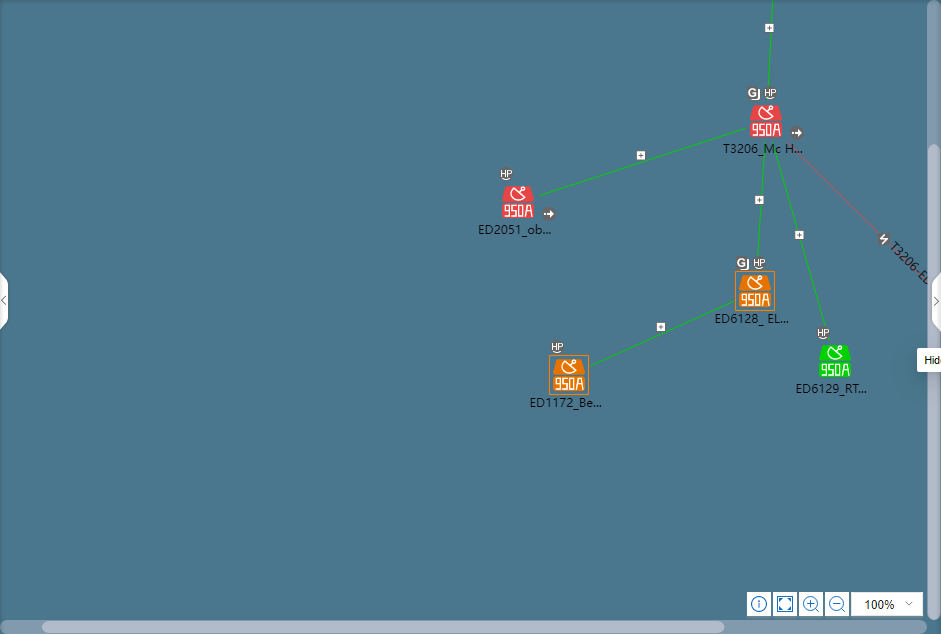Link_Green: (538, 126, 748, 201), (768, 144, 829, 338), (591, 296, 737, 364), (756, 144, 772, 243), (768, 2, 778, 38)
Link_Red: (785, 138, 931, 283)
RTN_Green: (820, 343, 854, 376)
RTN_Orange: (550, 355, 590, 395), (738, 273, 772, 313)
RTN_Red: (750, 102, 784, 136), (503, 185, 537, 217)
